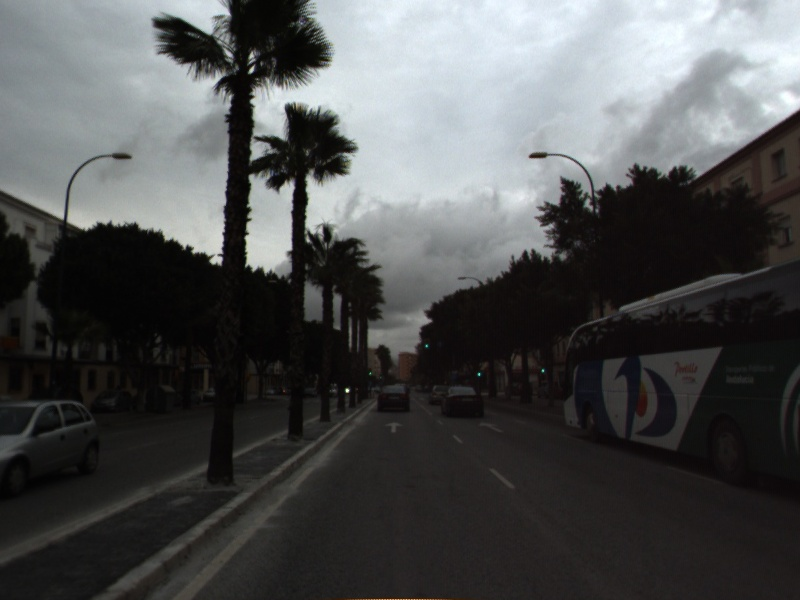STRAIGHT: (476, 419, 506, 435), (383, 419, 407, 435)
